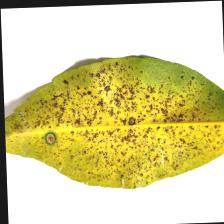canker: (73, 89, 195, 166)
